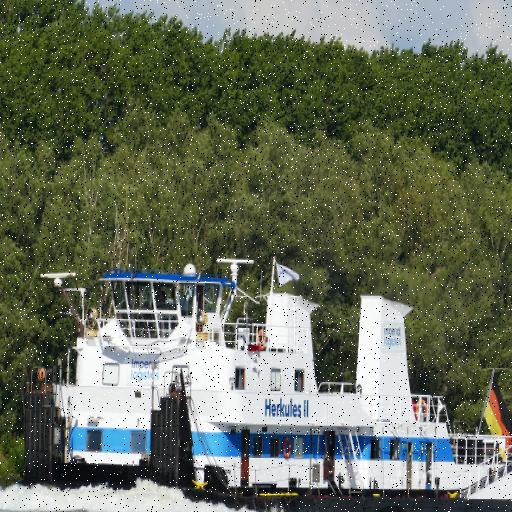tugboat: (15, 248, 512, 512)
